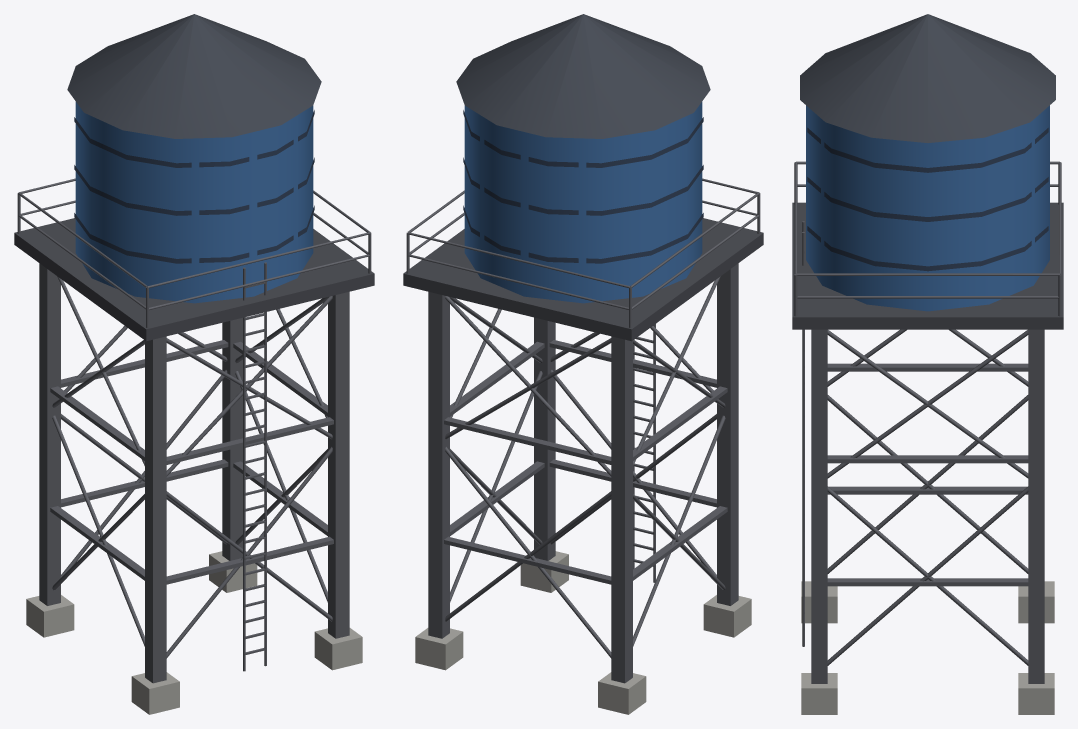
The model's file is WaterTower.glb.
The picture shows the model from 3 angles, left to right: view 1: azimuth 30°, elevation 25°; view 2: azimuth 150°, elevation 25°; view 3: azimuth 270°, elevation 25°; orthographic projection. The views are drawn at different scales.
Visible parts, largest first — view 1: WaterTower; view 2: WaterTower; view 3: WaterTower.
Boxes of the visible parts, x1,y1,x2,y2 form: WaterTower: (14, 14, 374, 714); WaterTower: (403, 14, 763, 714); WaterTower: (792, 14, 1063, 714).
Size of the model in its own units: 6 by 15.8 by 6.
